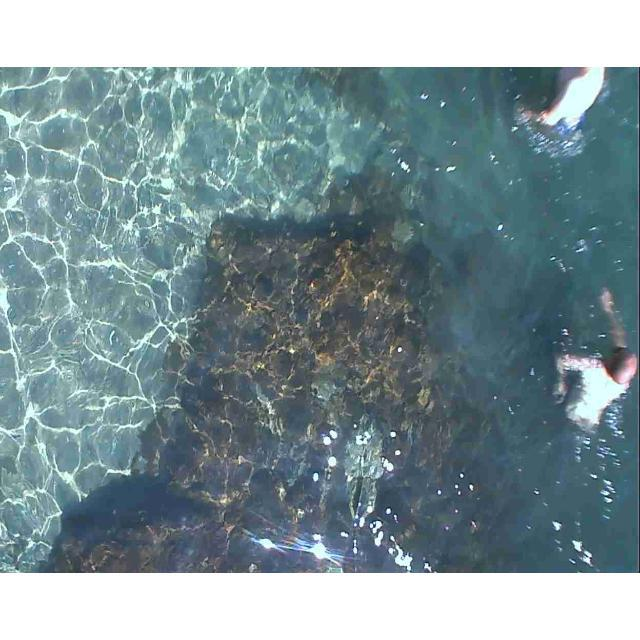human: (561, 277, 631, 442), (527, 67, 610, 159)
